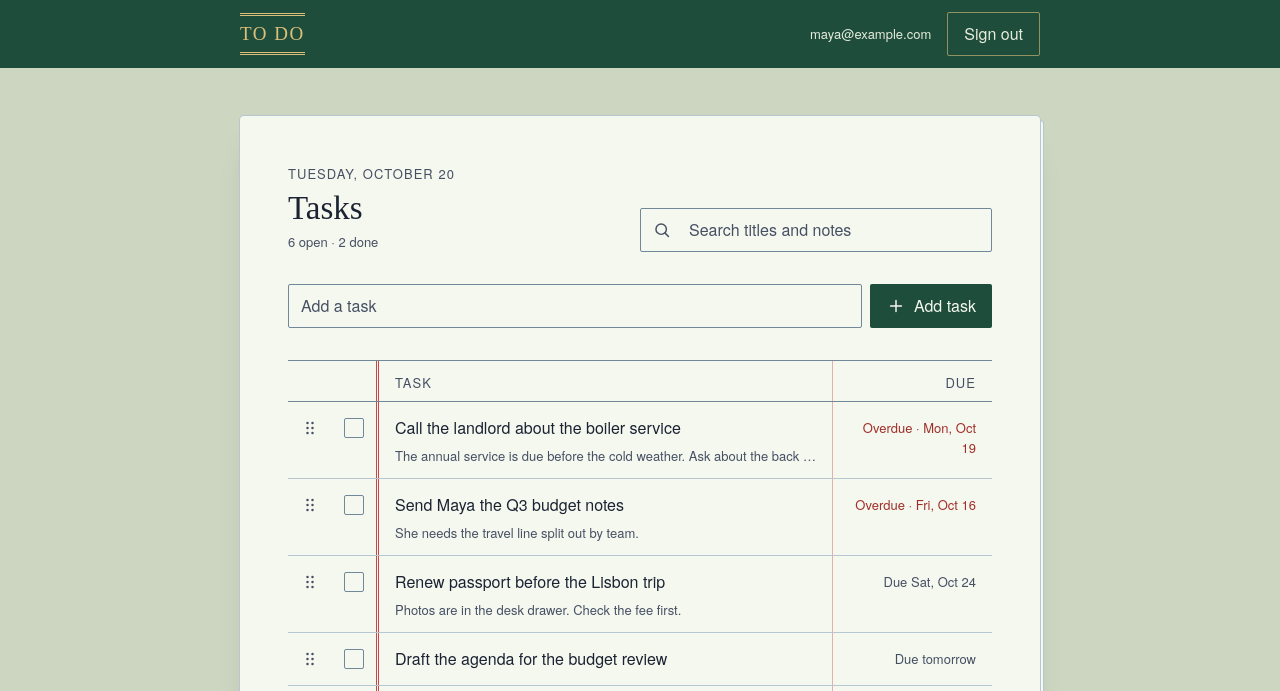
Test: TaskListPage › says why quick add failed
In the field named "New task": {"x": 575, "y": 306} [288,284,862,328], type "Buy stamps"
Then press Enter
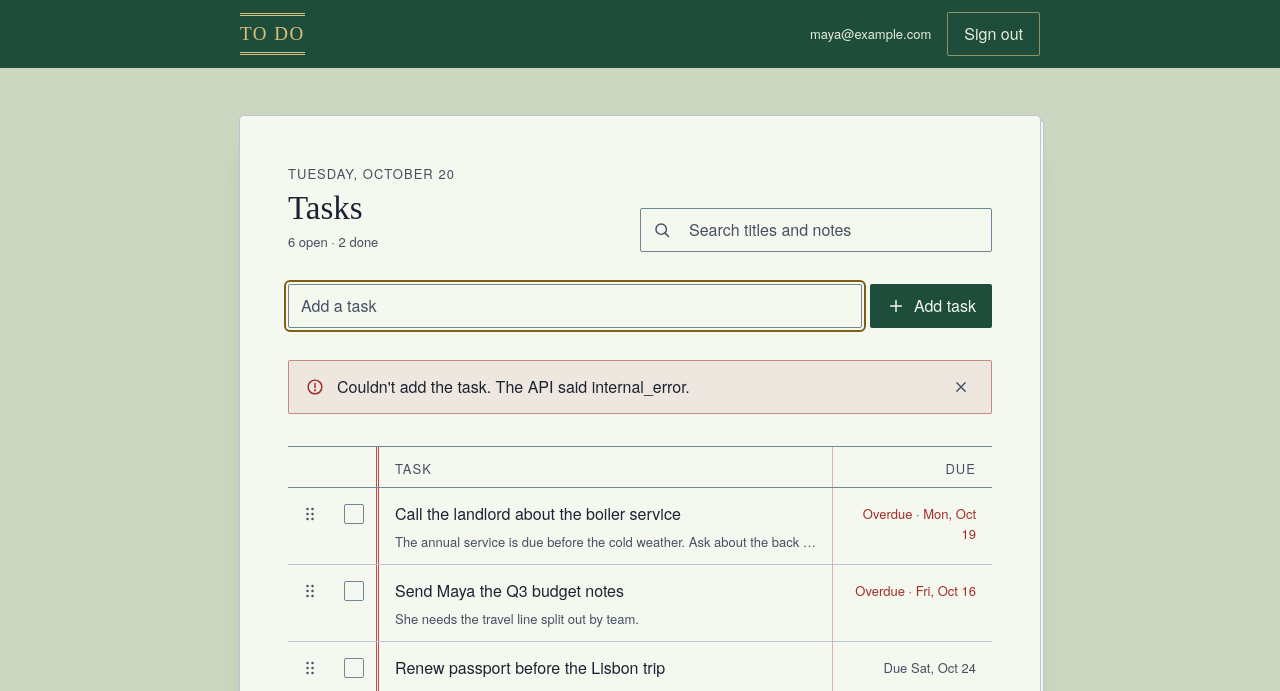
expect the button "Add task" is enabled: met, box [870,284,992,328]
expect the message "Couldn't add the task. The API said internal_error." is shown: met, box [288,360,992,414]
